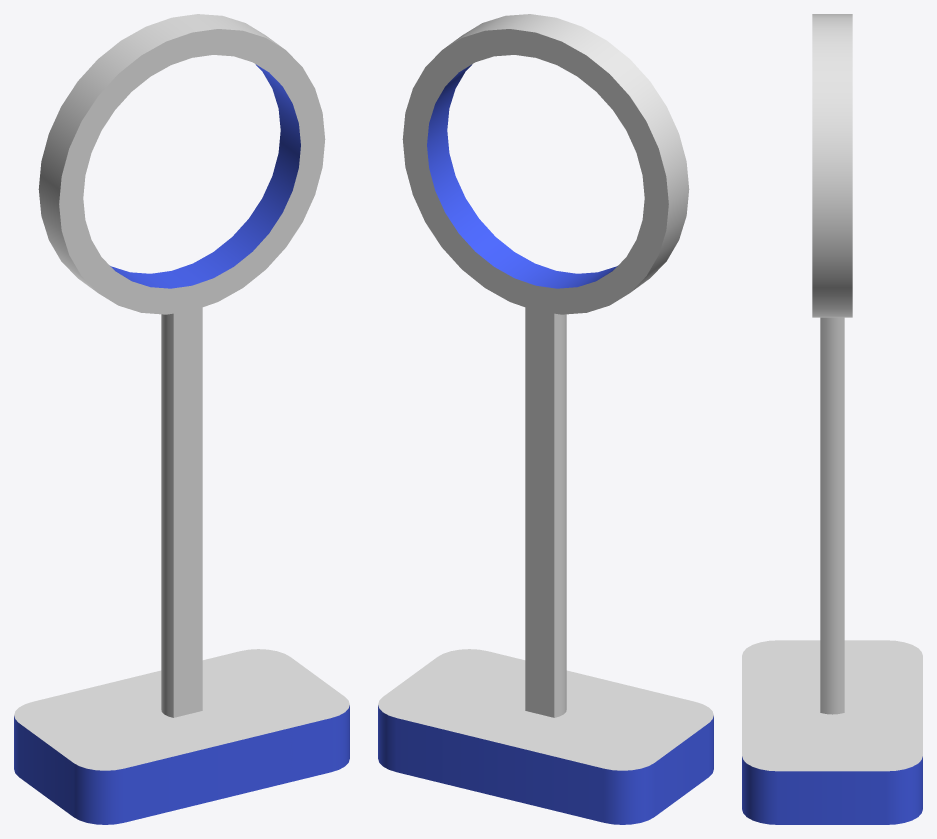
The model's file is Goal Stick.fbx.
3 views of the same model, side by side, from view 1: azimuth 30°, elevation 25°; view 2: azimuth 150°, elevation 25°; view 3: azimuth 270°, elevation 25° (orthographic).
Visible parts, largest first — view 1: Goal Stick.003, Goal Stick, Goal Stick.002; view 2: Goal Stick.003, Goal Stick, Goal Stick.002; view 3: Goal Stick.003, Goal Stick, Goal Stick.002.
Boxes of the visible parts, bbox=[...] form: Goal Stick.003: bbox=[14, 649, 349, 824]; Goal Stick: bbox=[38, 14, 325, 314]; Goal Stick.002: bbox=[161, 307, 202, 717]; Goal Stick.003: bbox=[378, 649, 713, 824]; Goal Stick: bbox=[402, 14, 689, 314]; Goal Stick.002: bbox=[525, 307, 566, 717]; Goal Stick.003: bbox=[742, 640, 922, 824]; Goal Stick: bbox=[812, 14, 852, 317]; Goal Stick.002: bbox=[820, 317, 844, 714].
Bounding box in the file's own units: 206 × 535 × 120.
